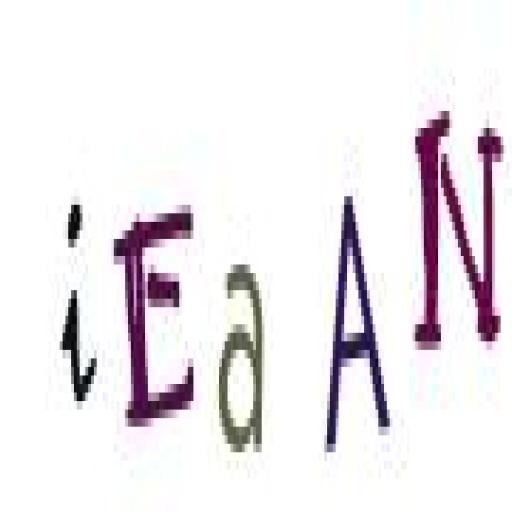A: (318, 190, 395, 453)
E: (112, 201, 200, 430)
N: (408, 99, 507, 364)
a: (217, 252, 270, 465)
i: (54, 200, 105, 414)
